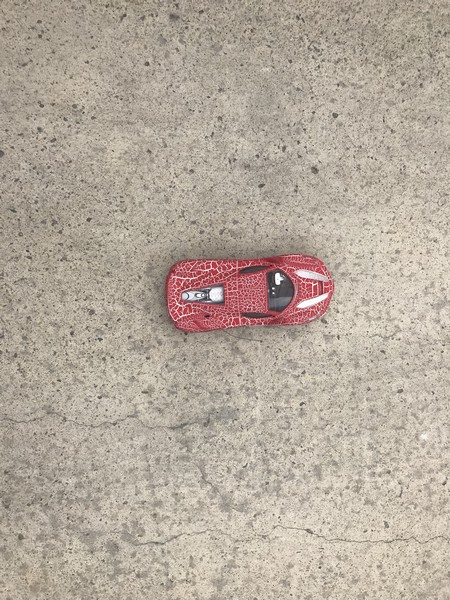RC: (163, 253, 336, 335)
